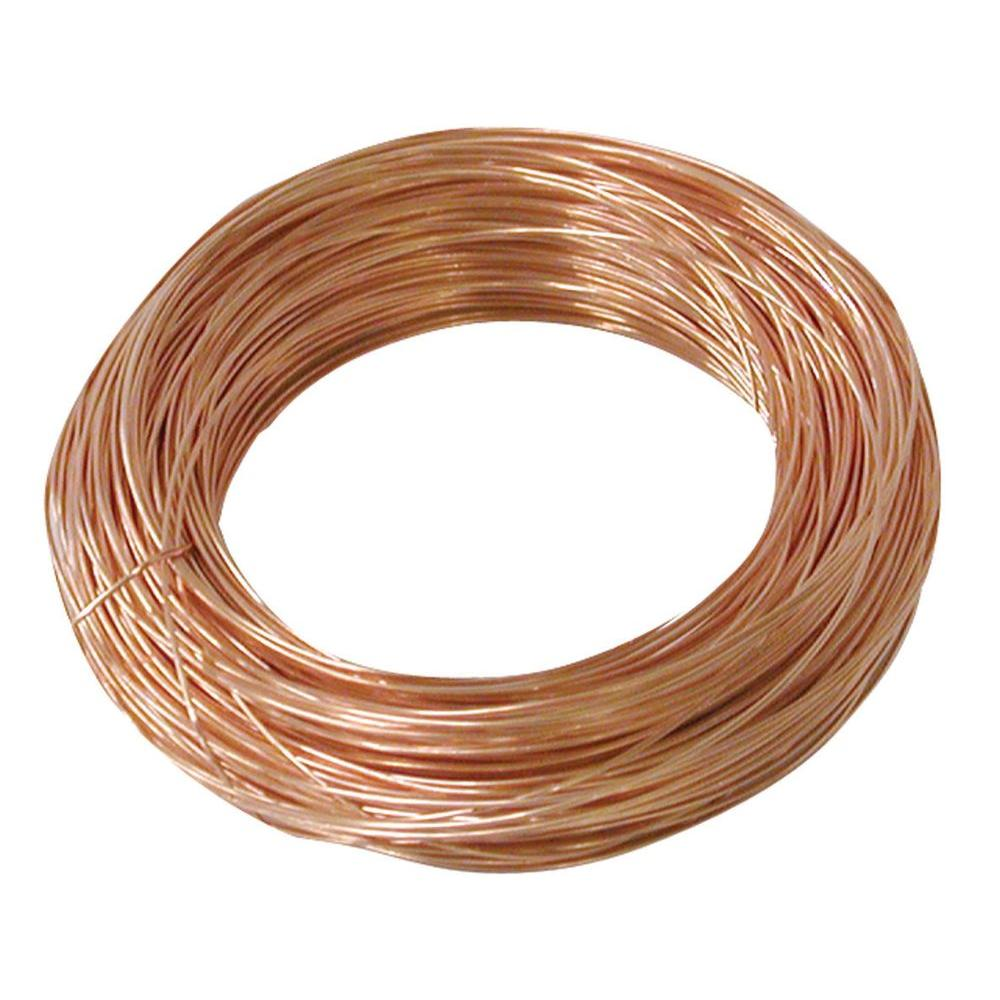Nonrec_Tangler: (3, 85, 948, 883)
